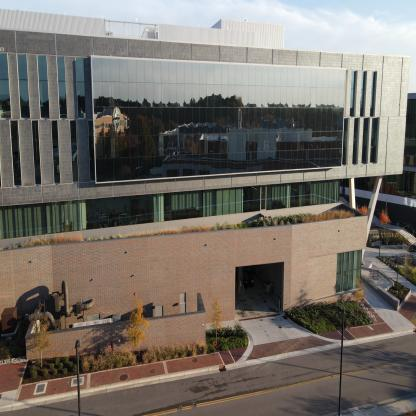Fitts- Woolard: (0, 26, 413, 346)
